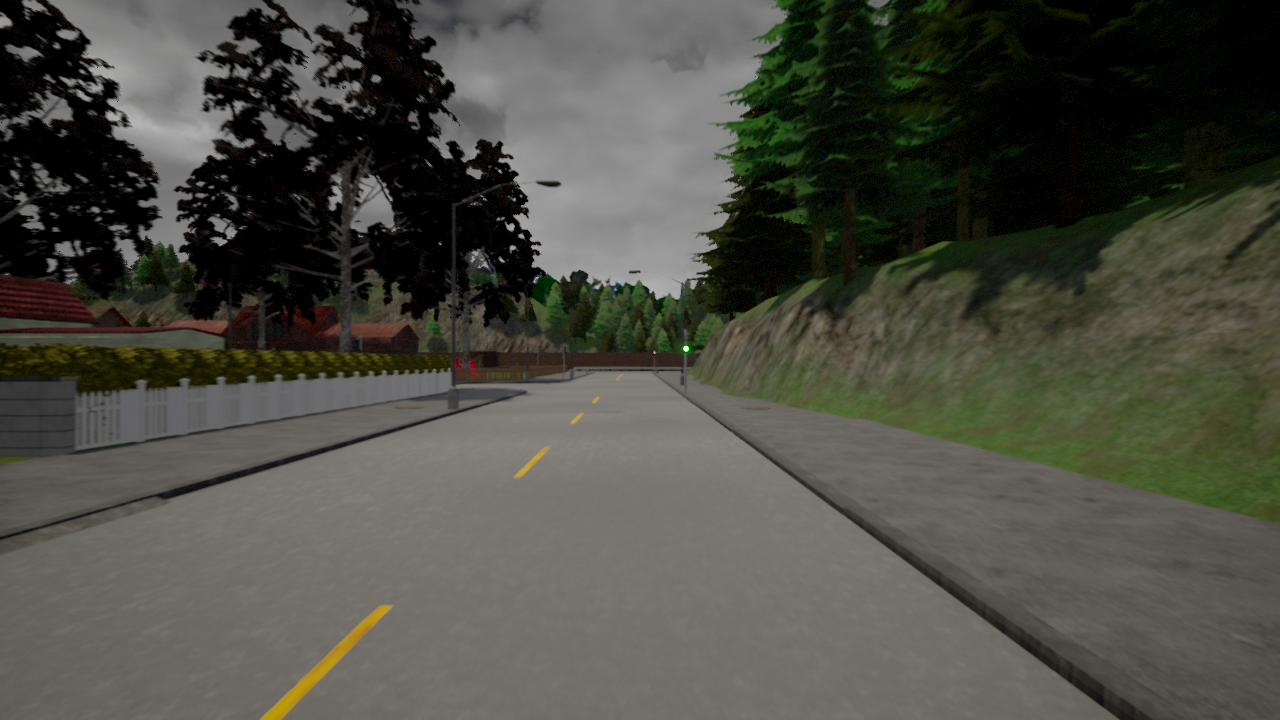green: (682, 336, 690, 354)
